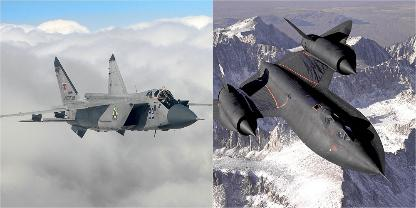Mig31: (0, 52, 212, 138)
Rafale: (213, 16, 393, 184)
